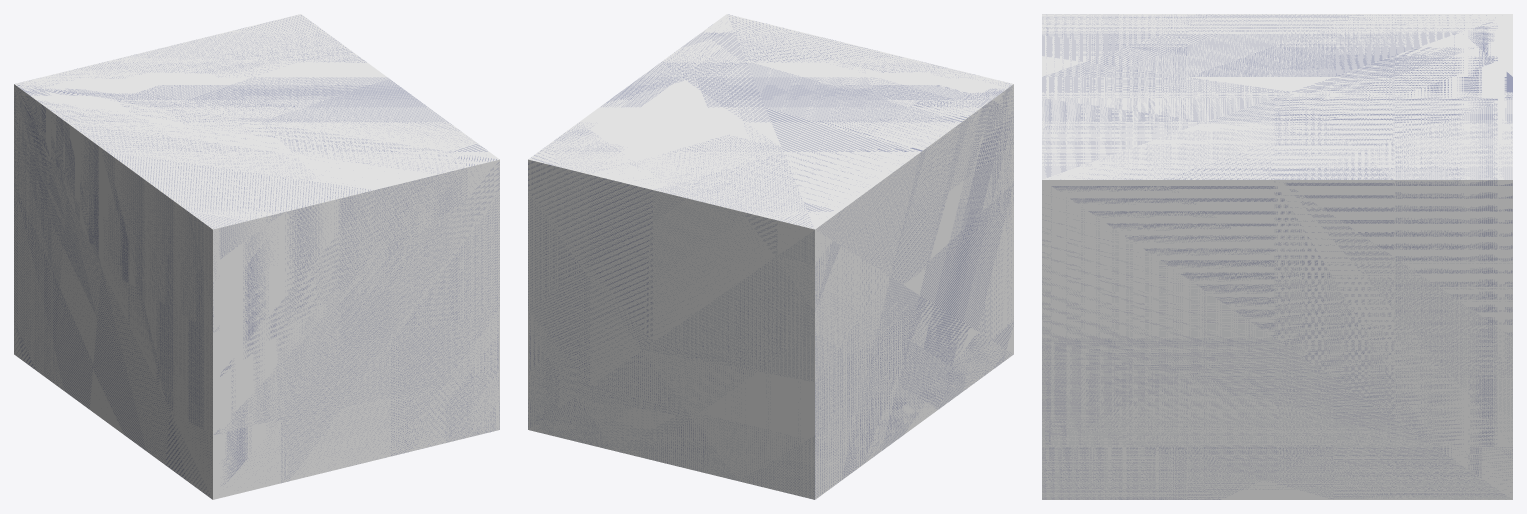
File: White.dae
3 renders of one model, left to right at view 1: azimuth 30°, elevation 25°; view 2: azimuth 150°, elevation 25°; view 3: azimuth 270°, elevation 25°, orthographic. The views are drawn at different scales.
Parts seen in each view (by area): view 1: SketchUp; view 2: SketchUp; view 3: SketchUp.
Part boxes in pixels (box(x1,y1,x2,y2)): SketchUp: box(14, 14, 499, 499); SketchUp: box(528, 14, 1013, 499); SketchUp: box(1042, 14, 1512, 499).
Bounding box in the file's own units: 40 × 48 × 36.
